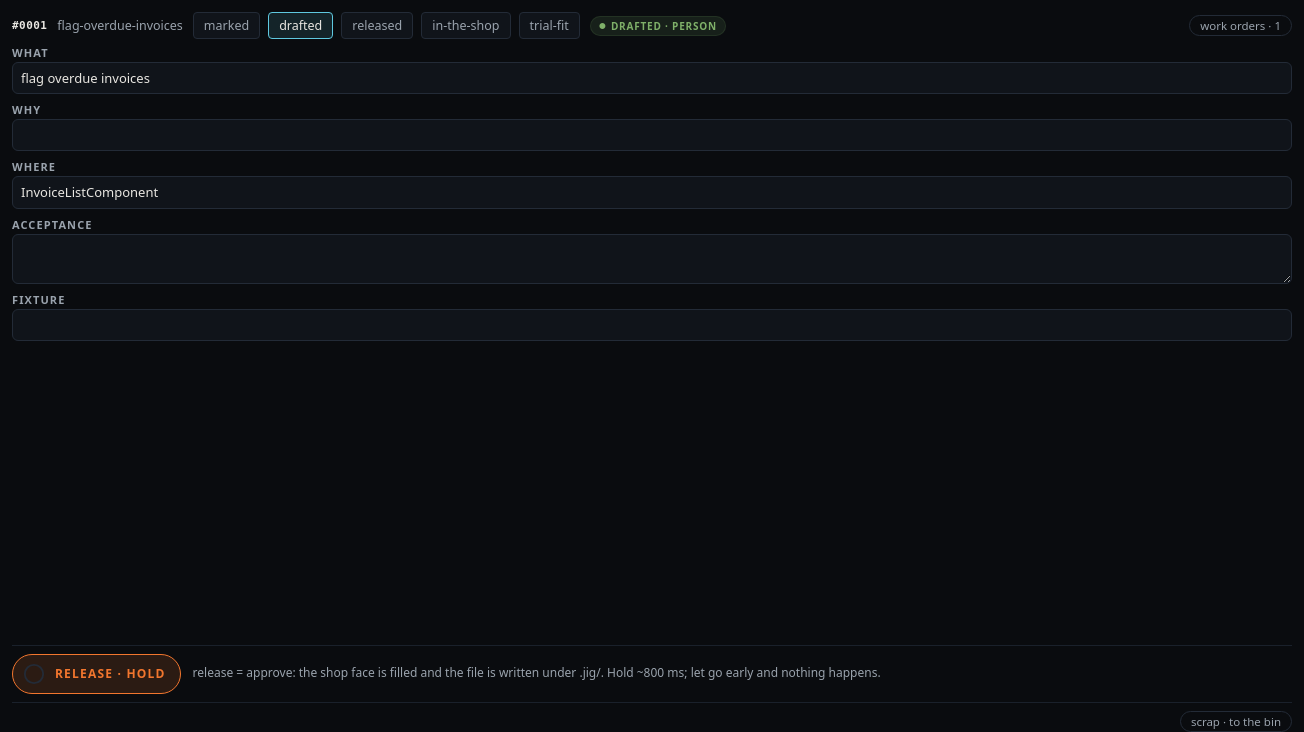
Test case: TrayRegion — RELEASE, the one held demand › reads --t-oath live and cancels before the hold completes, in words
Step 1. Press the mouse on the button "release · hold" → [96, 674], box [12, 654, 181, 694]
Wait 80 ms
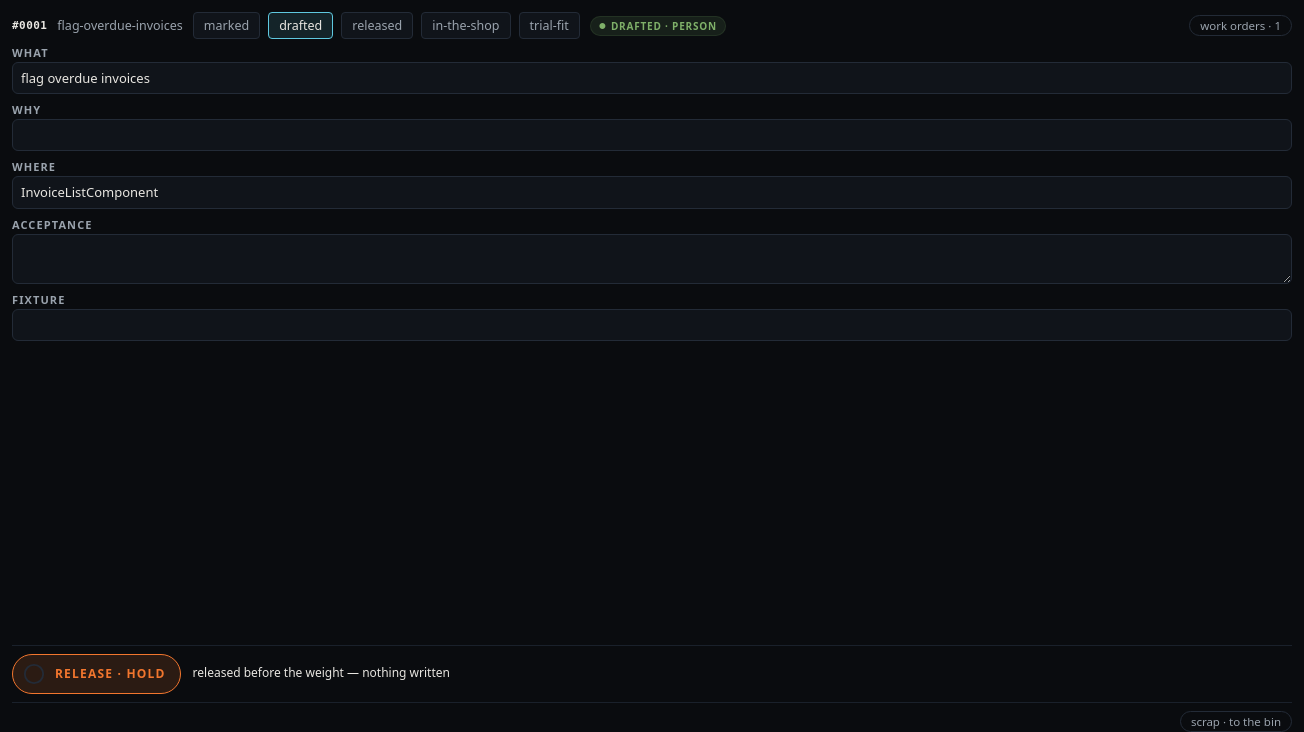
Expected: the text "released before the weight — nothing written" is shown, [193, 664, 450, 681]
